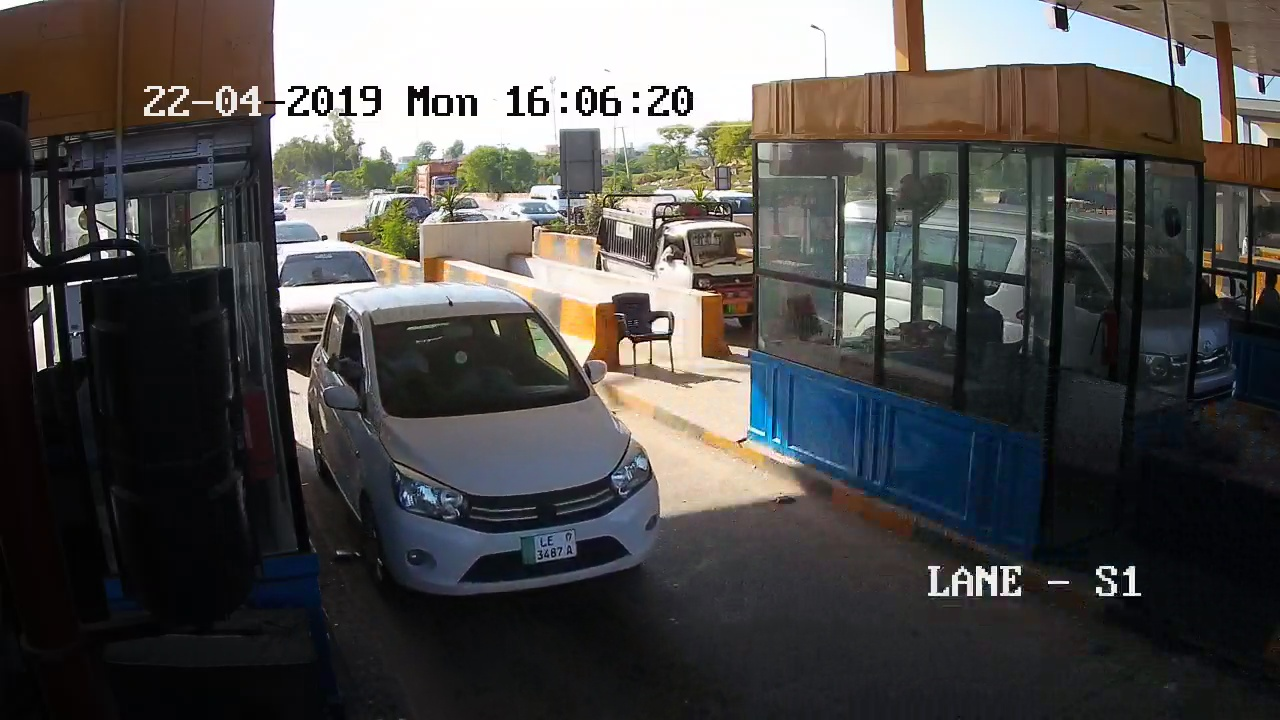Number Plate (Car): (519, 531, 584, 564)
